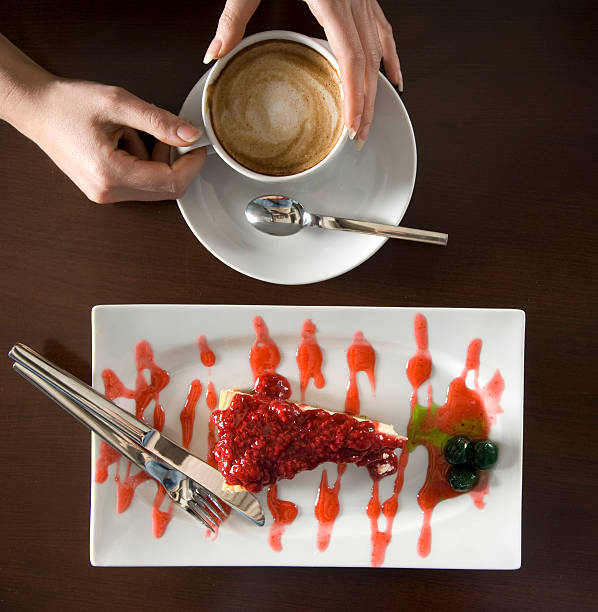knife: (5, 335, 267, 533)
